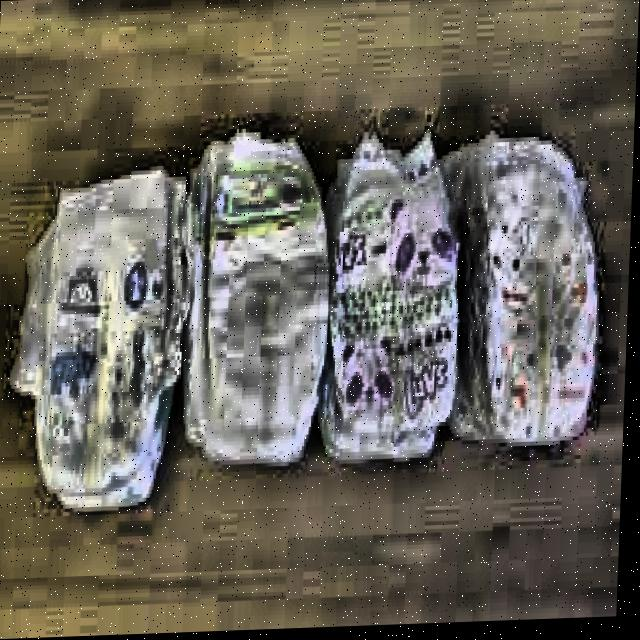trash: (6, 122, 188, 521), (432, 109, 607, 453), (176, 111, 331, 484), (311, 109, 468, 461)
